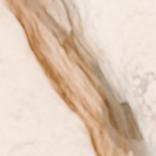broken_brick: (0, 3, 92, 155), (83, 0, 155, 155)
crack: (0, 0, 153, 155)
